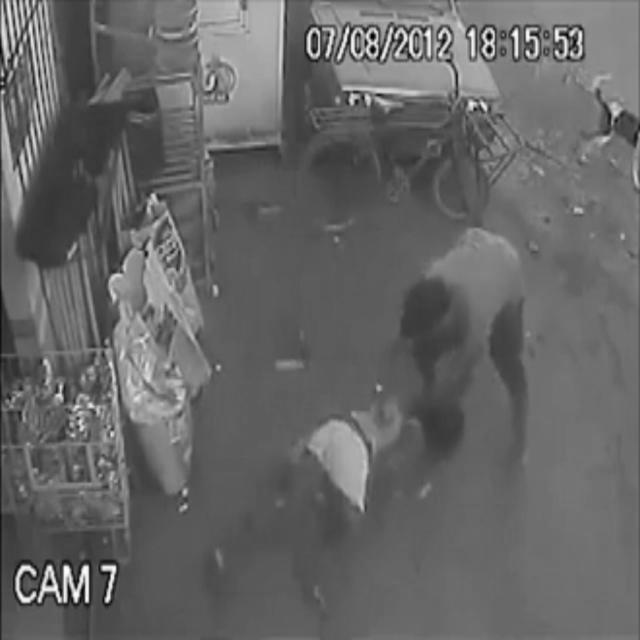weapon: (376, 408, 384, 422)
